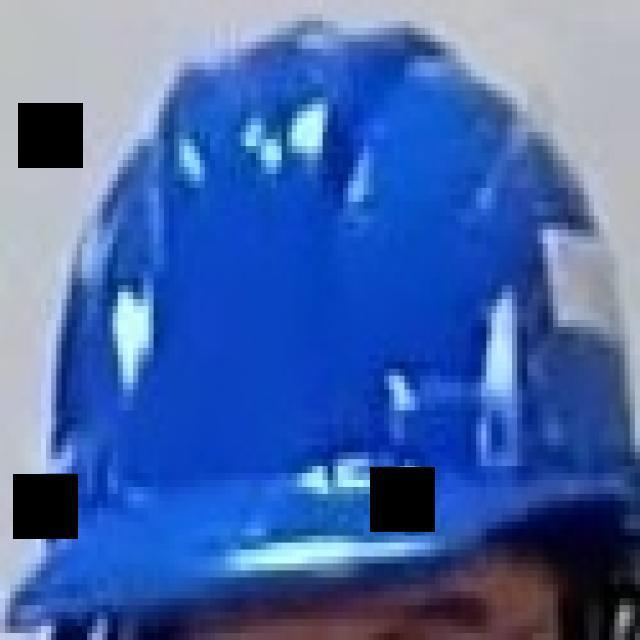blue helmet: (7, 15, 640, 640)
